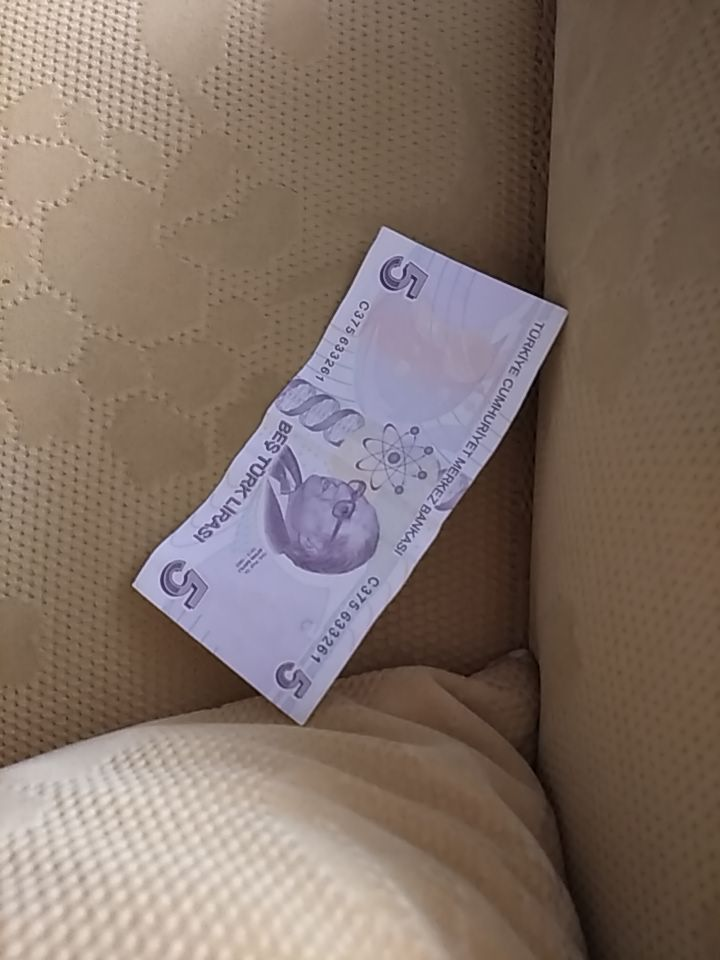5TL: (129, 222, 572, 730)
